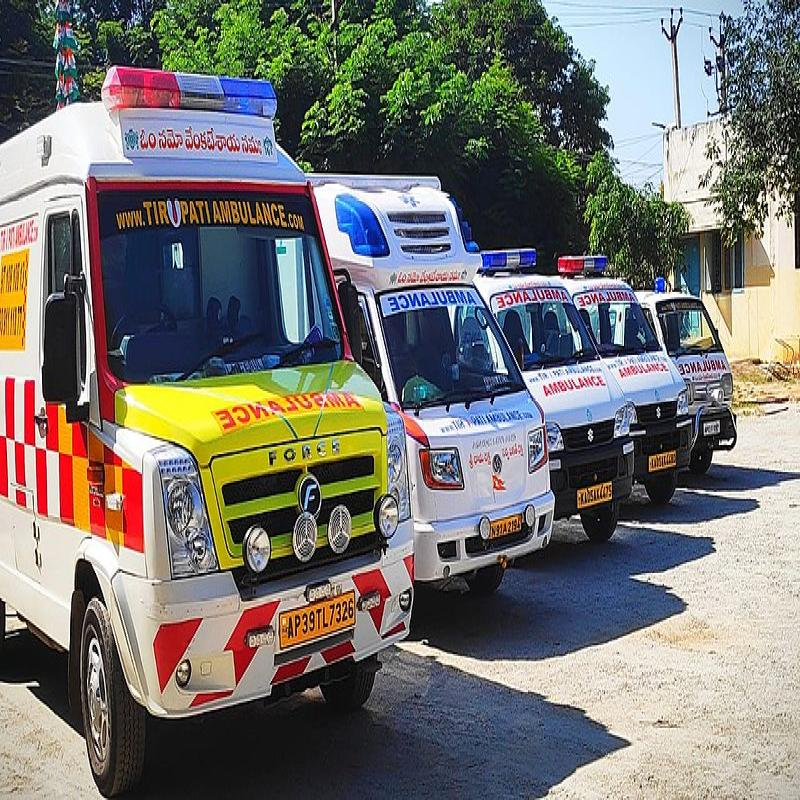AmbulanceSiren: (98, 54, 292, 128), (549, 228, 610, 286), (473, 232, 546, 278), (651, 256, 668, 305)
ambulance: (5, 50, 414, 790), (305, 155, 553, 598), (460, 227, 634, 557), (546, 239, 703, 508), (636, 274, 746, 470)
